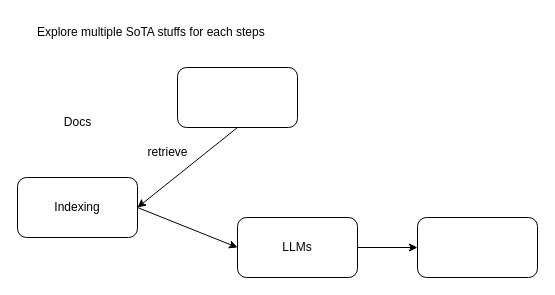
Some shapes in this 555 by 295 pixel diagram are drawn without their labels. The box of each missing label's shape, as (x1, y1, x2, y2) in pixels:
Answer: (416, 216, 538, 278)
Query: (176, 66, 298, 128)
